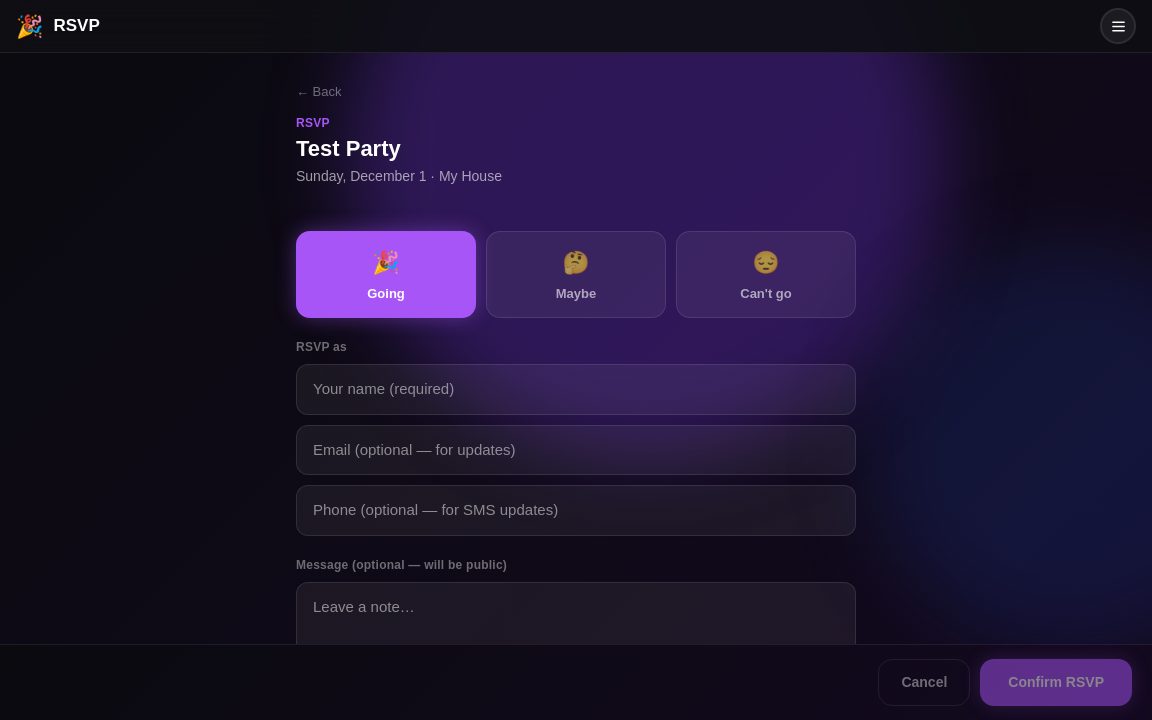
Test: RsvpFlow — new RSVP › shows inline error when addRSVP returns failure
Step 1. Type "Bob" into the field with placeholder "Your name (required)" → (576, 390), box [296,364,856,415]
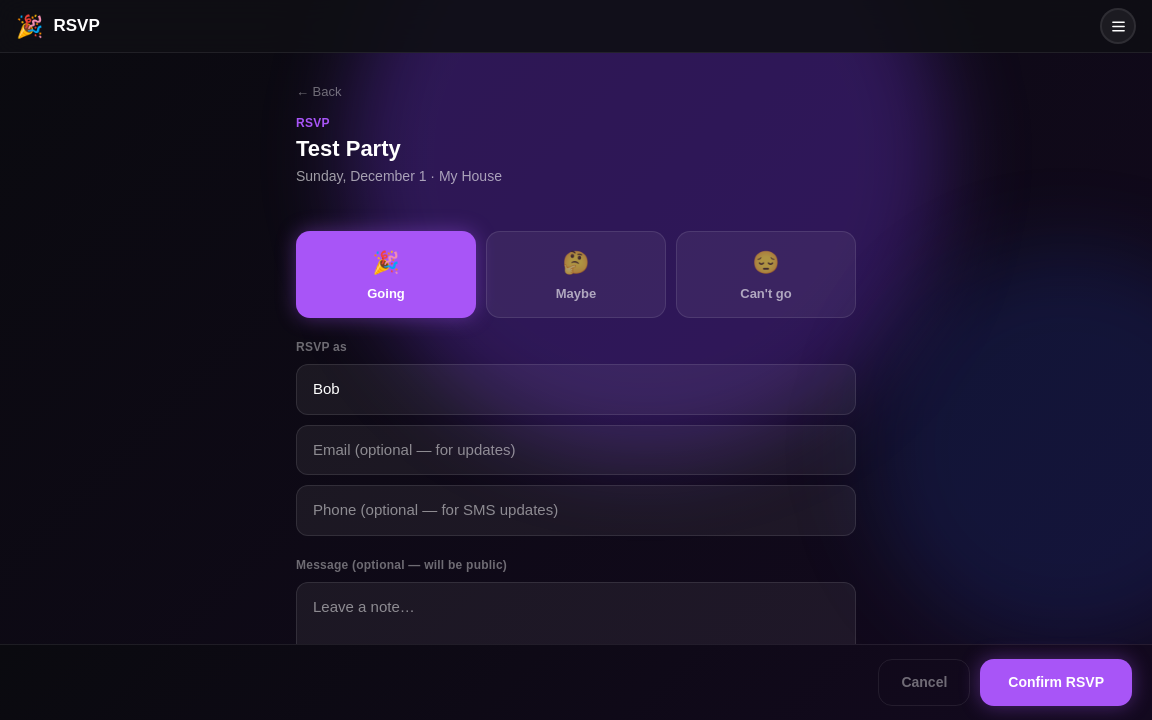
Step 2. Click the button "Confirm RSVP" → (1056, 682), box [980,659,1132,706]
(page scrolled)
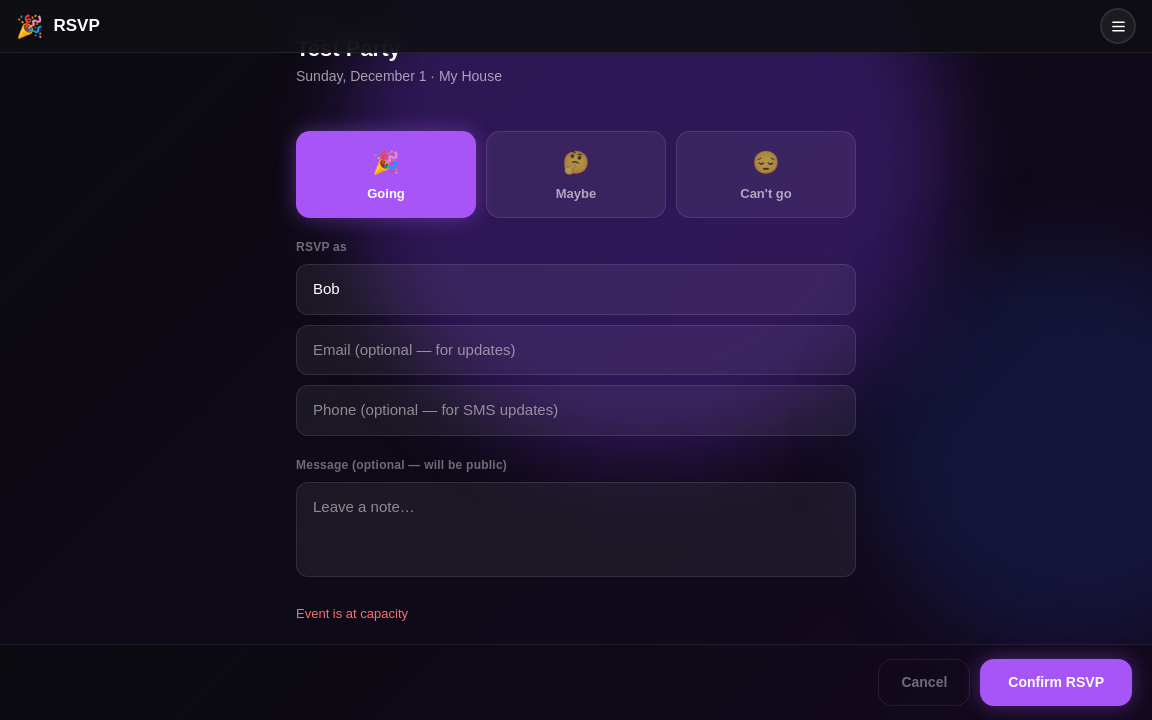
Check: the text "Event is at capacity" is shown, box [296,606,408,621]
